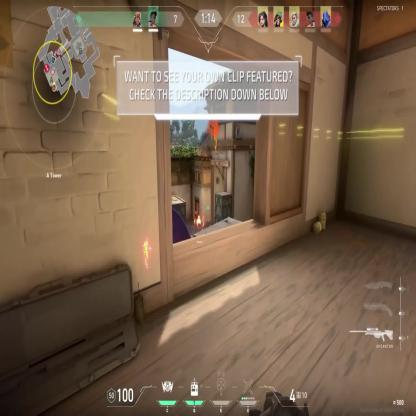enemy: (142, 238, 151, 267)
enemy_head: (146, 238, 148, 243)
